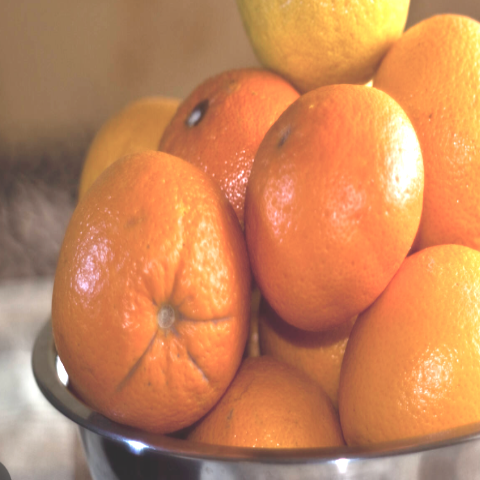orange: (41, 143, 255, 454), (227, 35, 428, 342)
